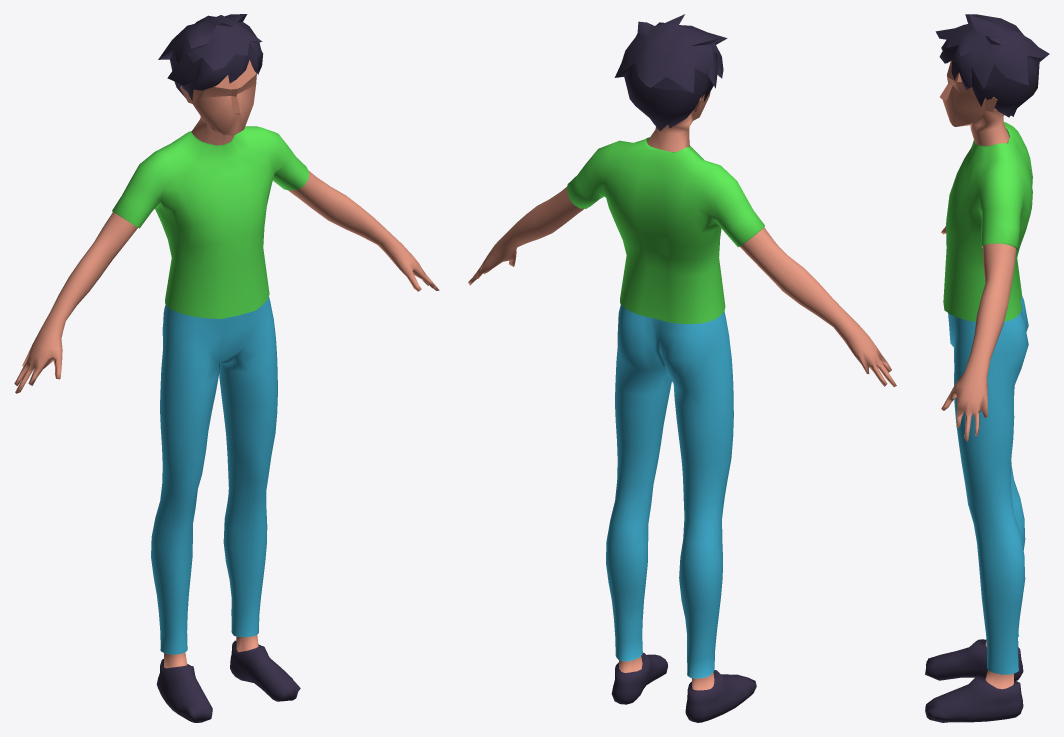
File: ModeloMundial.fbx
The picture shows the model from 3 angles, left to right: view 1: azimuth 30°, elevation 25°; view 2: azimuth 150°, elevation 25°; view 3: azimuth 270°, elevation 25°; orthographic projection.
Visible parts, largest first — view 1: Mesh, Object_3; view 2: Mesh, Object_3; view 3: Mesh, Object_3.
Part boxes in pixels (bbox=[...]): Mesh: bbox=[14, 60, 439, 722]; Object_3: bbox=[158, 14, 263, 100]; Mesh: bbox=[468, 91, 896, 722]; Object_3: bbox=[614, 14, 727, 130]; Mesh: bbox=[925, 60, 1032, 722]; Object_3: bbox=[935, 14, 1049, 117].
Size of the model in its own units: 125 by 192 by 31.79.
